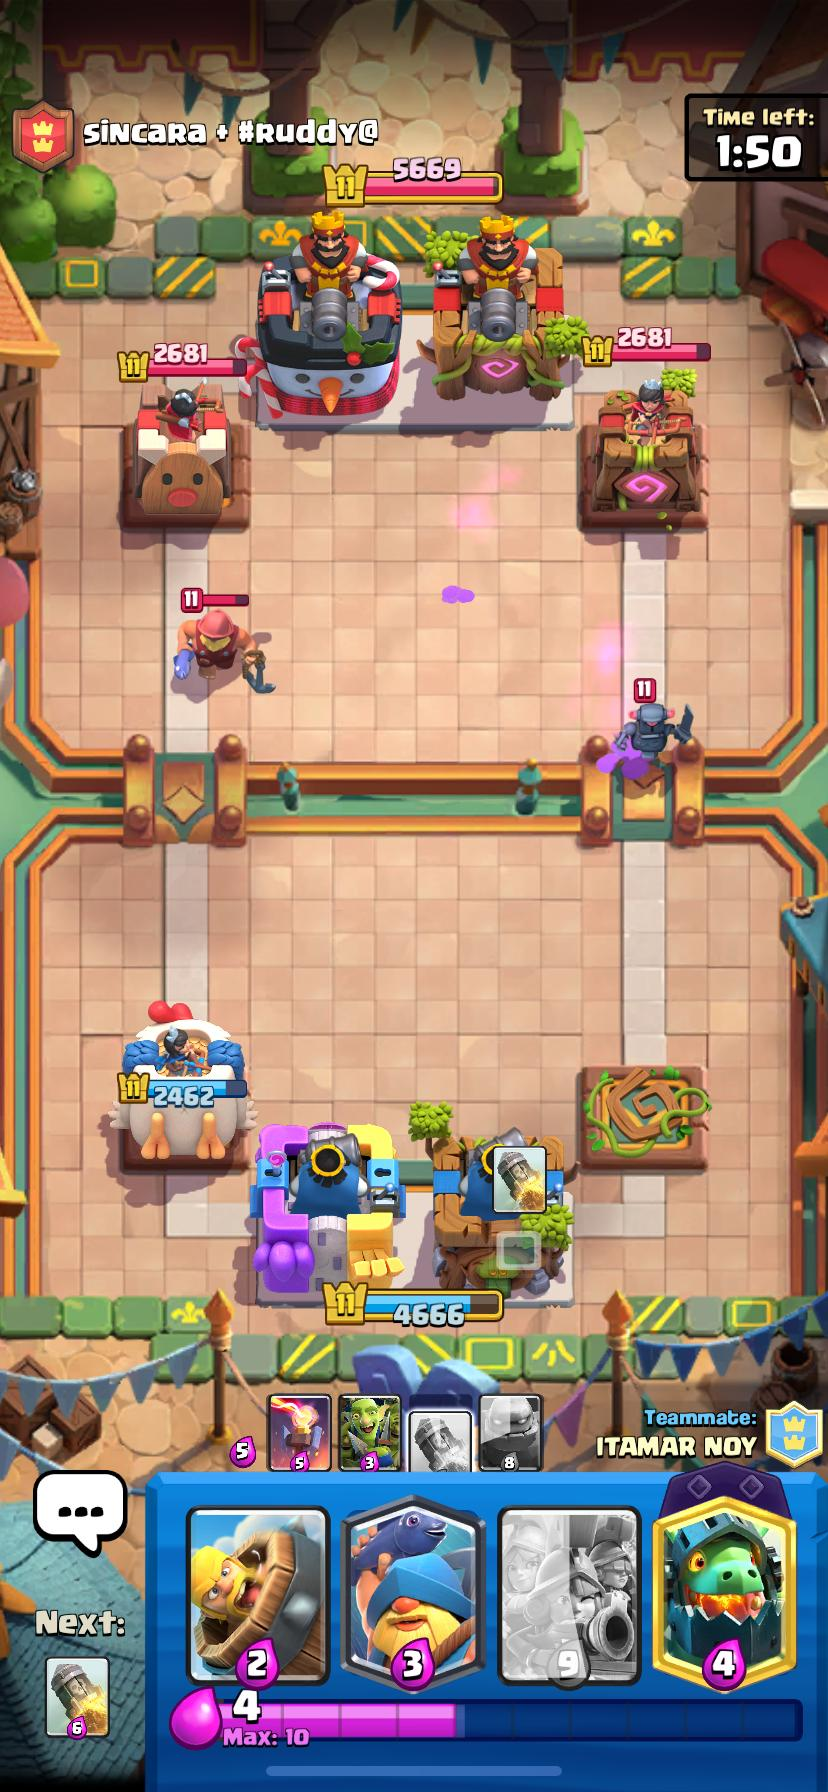EFisherman: (175, 606, 273, 691)
EKingTower: (256, 210, 401, 421), (419, 218, 568, 400)
EMiniPeka: (621, 703, 693, 760)
EnemyPrincessTower: (579, 381, 706, 529), (124, 379, 247, 527)
OwnKingTower: (250, 1117, 405, 1301), (433, 1128, 572, 1295)
OwnPrincessTower: (109, 1001, 255, 1161)
TowerDown: (579, 1066, 709, 1168)
